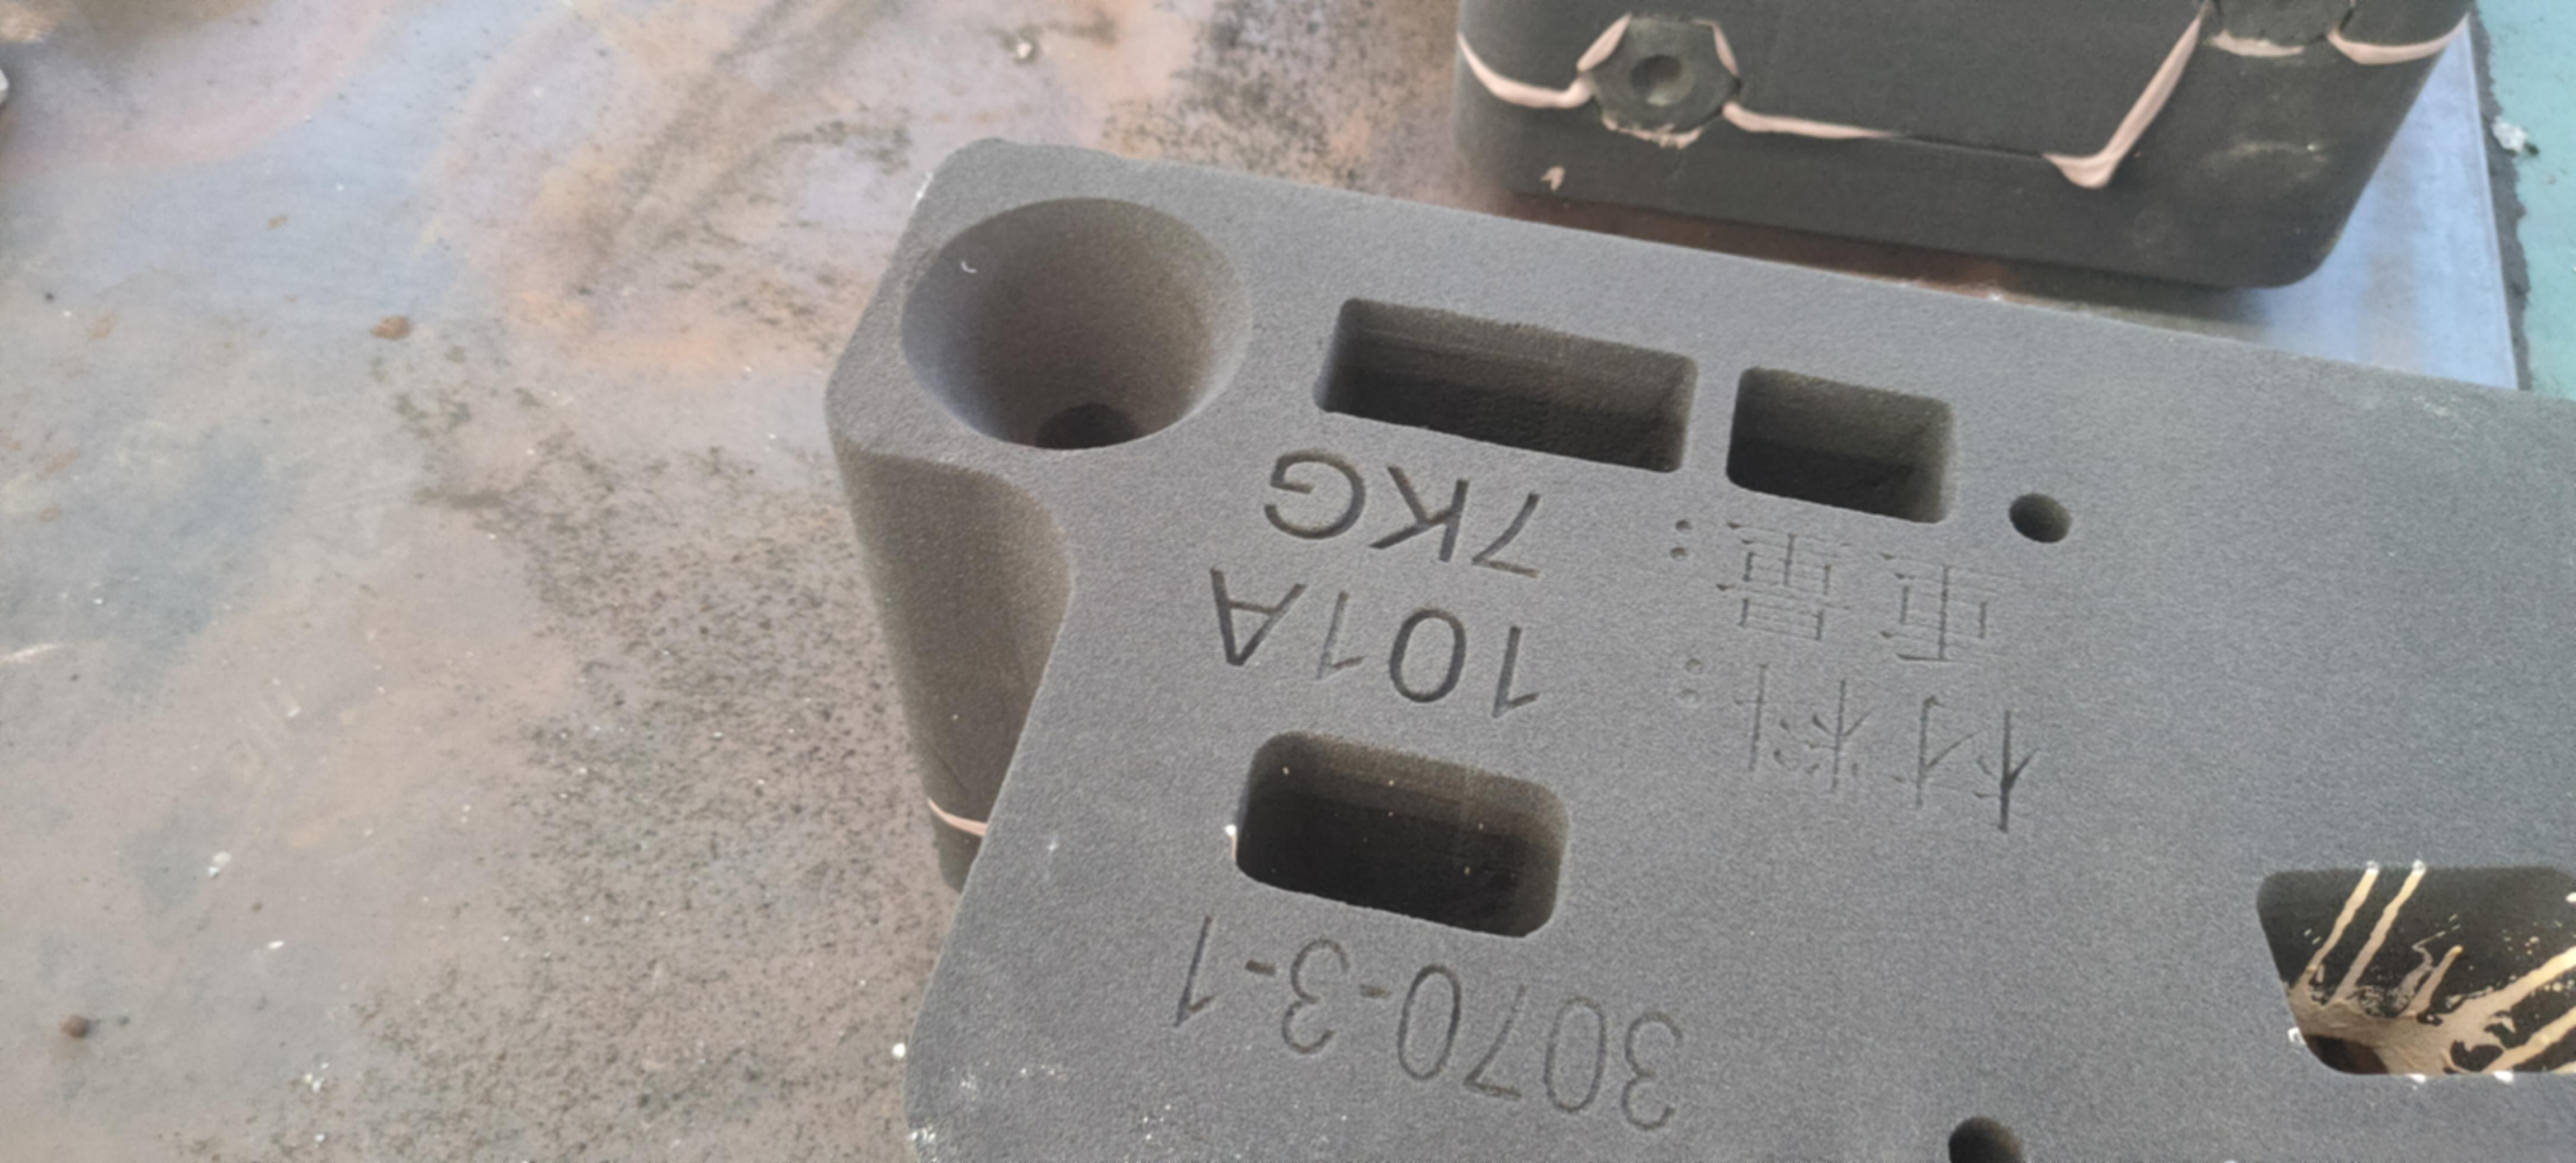pouring hole: (897, 195, 1250, 455)
